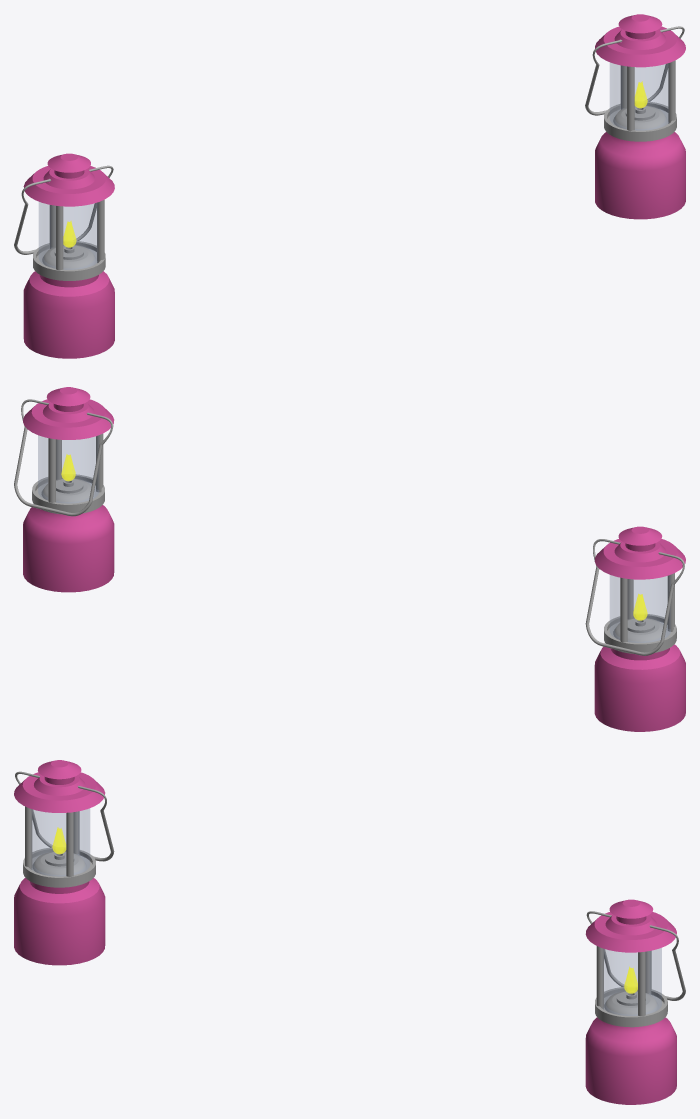
The model's file is lampiao.glb.
The picture shows the model from 3 angles, top to bottom: view 1: azimuth 30°, elevation 25°; view 2: azimuth 150°, elevation 25°; view 3: azimuth 330°, elevation 25°; orthographic projection.
Visible parts, largest first — view 1: objeto, base.001, topo.001, Cylinder.001, base 1.001, axea.001; view 2: objeto, base.001, topo.001, Cylinder.001, base 1.001, axea.001; view 3: objeto, base.001, topo.001, Cylinder.001, base 1.001, axea.001.
Boxes of the visible parts, x1=… form: objeto: x1=585, y1=14, x2=685, y2=219; base.001: x1=23, y1=271, x2=114, y2=358; topo.001: x1=23, y1=153, x2=114, y2=206; Cylinder.001: x1=39, y1=202, x2=97, y2=269; base 1.001: x1=33, y1=241, x2=105, y2=280; axea.001: x1=14, y1=165, x2=113, y2=254; objeto: x1=14, y1=387, x2=114, y2=592; base.001: x1=594, y1=644, x2=685, y2=731; topo.001: x1=594, y1=526, x2=685, y2=579; Cylinder.001: x1=610, y1=575, x2=670, y2=642; base 1.001: x1=604, y1=614, x2=676, y2=653; axea.001: x1=585, y1=539, x2=684, y2=655; objeto: x1=585, y1=899, x2=685, y2=1104; base.001: x1=14, y1=878, x2=105, y2=965; topo.001: x1=14, y1=760, x2=105, y2=812; Cylinder.001: x1=31, y1=785, x2=89, y2=876; base 1.001: x1=23, y1=847, x2=95, y2=887; axea.001: x1=15, y1=771, x2=114, y2=861.
Bounding box in the file's own units: 32.65 × 8.59 × 3.9.
